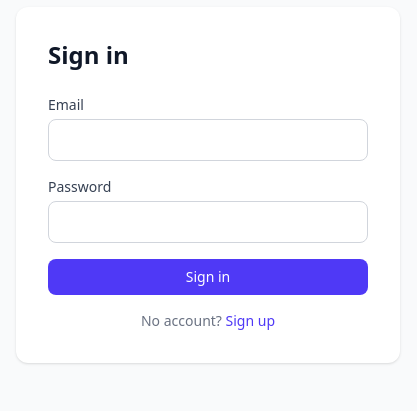
Test: SignInPage › shows error when submission fails
Type "test@test.com" into the field labelled "Email" at [208, 140], box top-left (48, 119), bottom-right (368, 161)
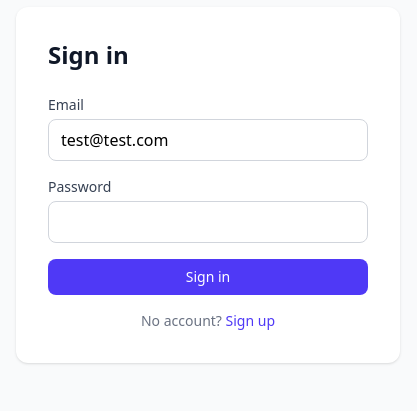
Type "wrong" into the password field labelled "Password" at [208, 222], box top-left (48, 201), bottom-right (368, 243)
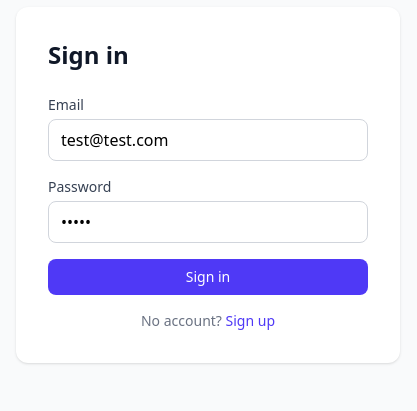
Submit the form from the button "Sign in", box top-left (48, 259), bottom-right (368, 295)
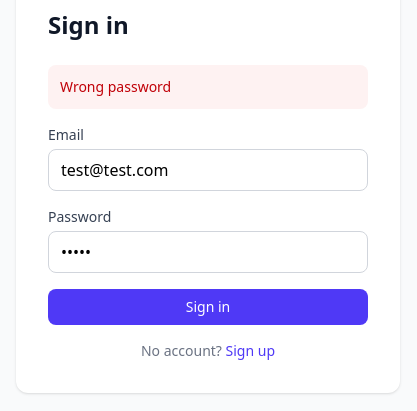
expect the text "Wrong password" is shown: met, box top-left (48, 65), bottom-right (368, 109)
